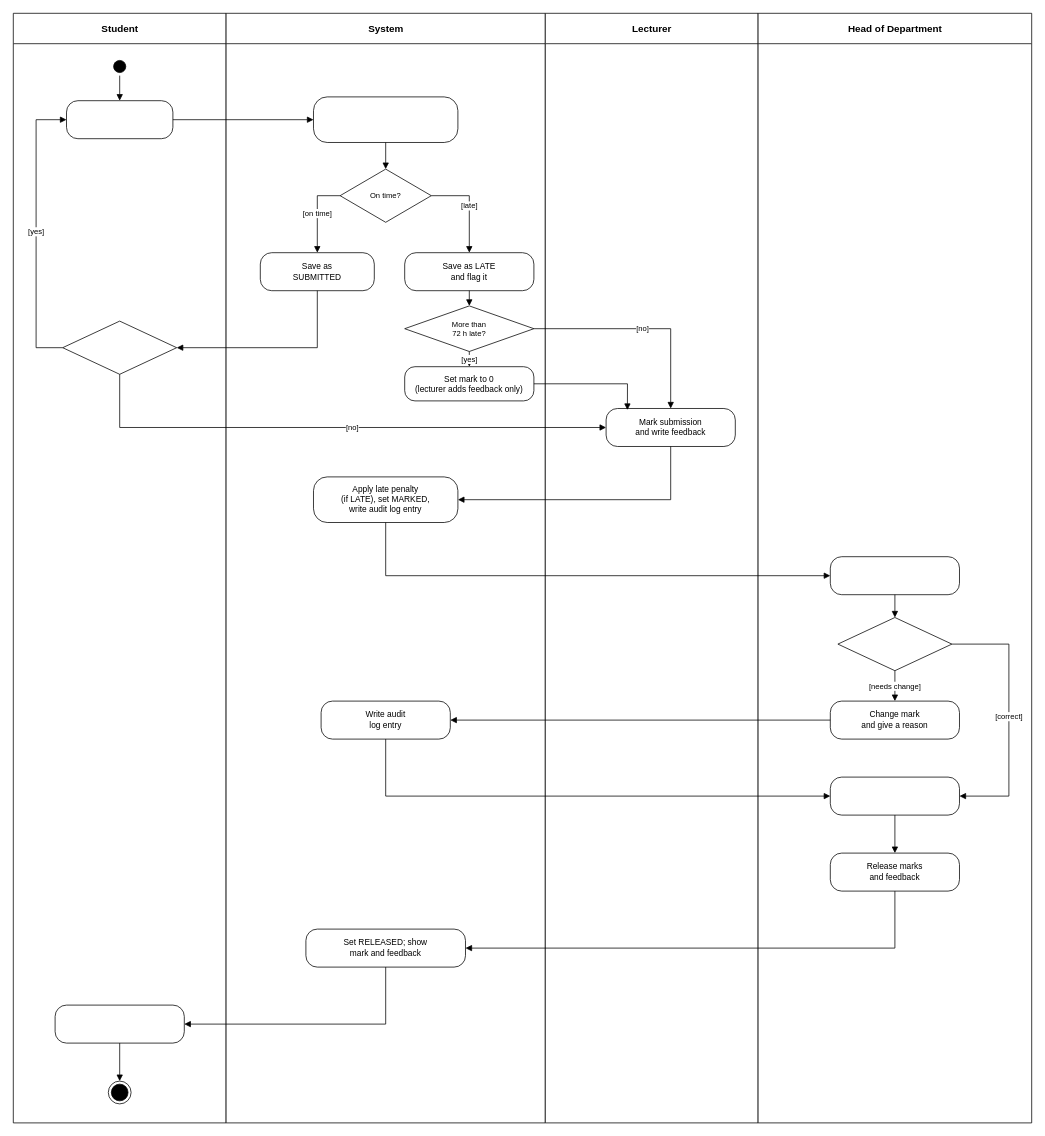
Image size: 1045x1136. Some labels were removed from this diagram. Here are the shapes that lost their labels. From the top down, the centre of each, then its label:
At point (119, 119): "Submit work (upload file)".
At point (385, 119): "Work out effective deadline (extension if granted)".
At point (119, 347): "Resubmit before deadline?".
At point (895, 575): "Review marks in their department".
At point (894, 644): "Mark correct?".
At point (895, 795): "Approve mark (MODERATED)".
At point (119, 1023): "View mark and feedback".
